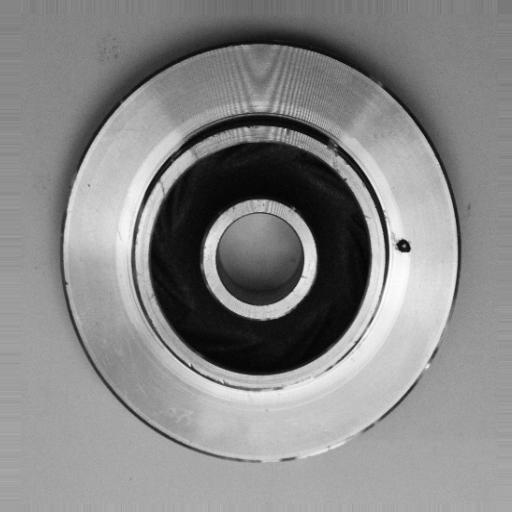pit: (392, 230, 417, 260)
scratch: (268, 362, 347, 397), (320, 135, 353, 191)
unpolished_casting: (60, 41, 465, 468)
